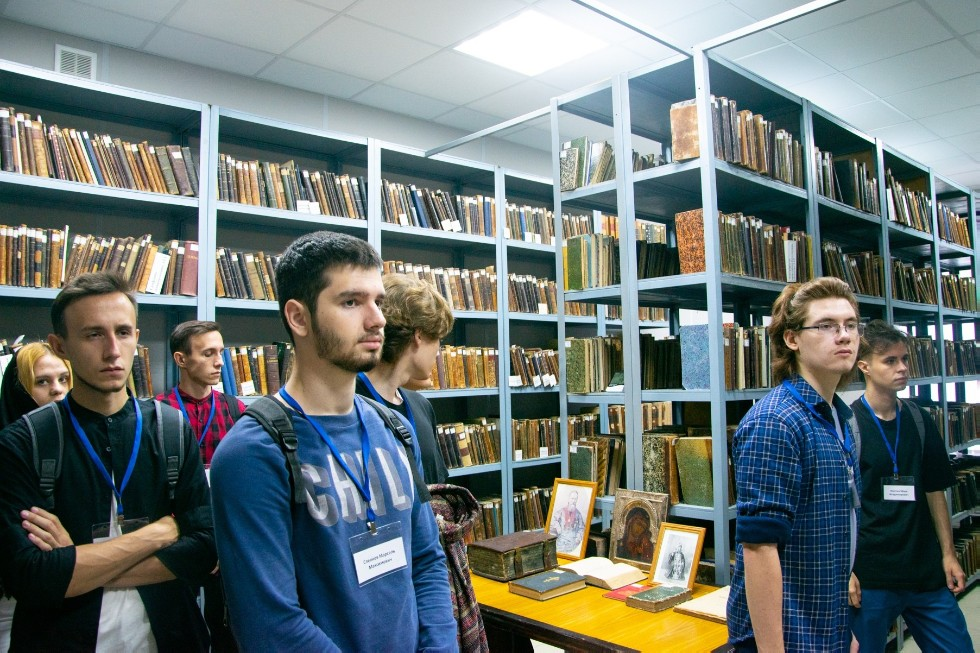students: (210, 227, 465, 649), (2, 271, 217, 650), (728, 278, 867, 650), (847, 319, 976, 651), (379, 272, 489, 649), (153, 323, 261, 459), (4, 336, 75, 418)
